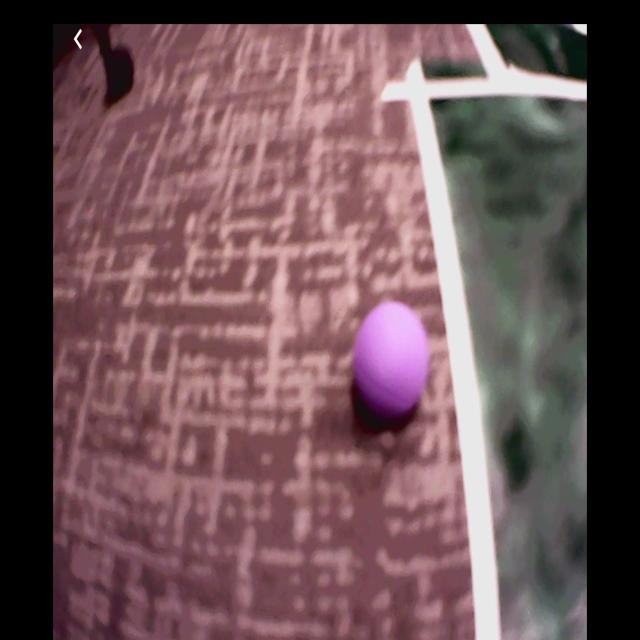ball: (351, 299, 432, 429)
